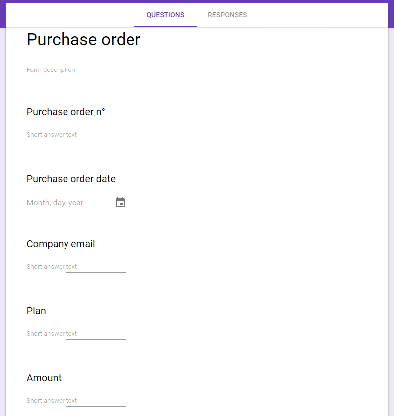textline: (23, 327, 128, 344), (23, 392, 128, 409), (23, 259, 127, 276), (24, 126, 129, 142)
